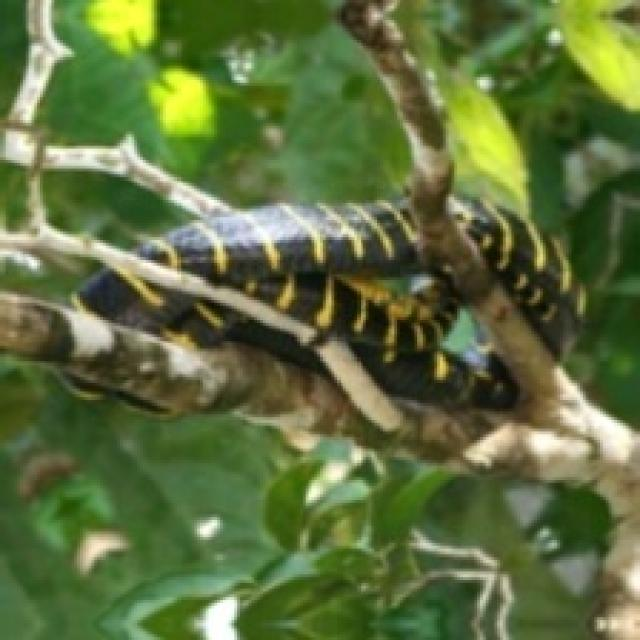mangrove cat snake: (137, 200, 514, 406), (451, 197, 583, 354), (80, 271, 246, 343)
